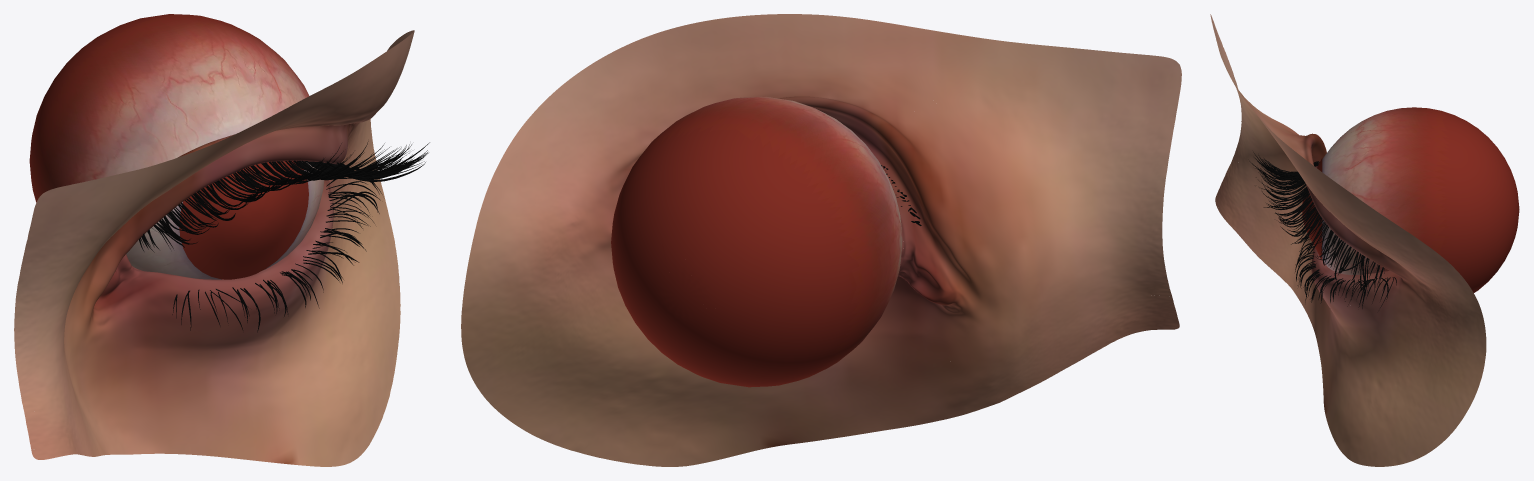
The model's file is 五官_写实眼睛01_opt.glb.
3 renders of one model, left to right at view 1: azimuth 30°, elevation 25°; view 2: azimuth 150°, elevation 25°; view 3: azimuth 270°, elevation 25°, orthographic. The views are drawn at different scales.
Parts seen in each view (by area): view 1: Female_Basemesh_Textured_Head_0, Eye_Brown_02_Eye_Brown_02_0, Eye_Brown_02_Cornea_0, Female_Basemesh_Textured_Head_0_2, Eyelash_Upper_Lash_Material001_0_10, Eyelash_Upper_Lash_Material001_0_8, Eyelash_Upper_Lash_Material001_0_6, Eyelash_Lower_Lash_Material_0_2, Eyelash_Upper_Lash_Material001_0_14, Eyelash_Upper_Lash_Material001_0_16, Eyelash_Lower_Lash_Material_0, Eyelash_Upper_Lash_Material001_0_12 (+3 smaller); view 2: Female_Basemesh_Textured_Head_0, Eye_Brown_02_Eye_Brown_02_0, Female_Basemesh_Textured_Head_0_2; view 3: Female_Basemesh_Textured_Head_0, Eye_Brown_02_Eye_Brown_02_0, Eyelash_Upper_Lash_Material001_0_4, Eyelash_Upper_Lash_Material001_0, Eyelash_Upper_Lash_Material001_0_6, Eyelash_Upper_Lash_Material001_0_8, Eyelash_Upper_Lash_Material001_0_2, Eyelash_Upper_Lash_Material001_0_10, Eye_Brown_02_Cornea_0, Eyelash_Lower_Lash_Material_0, Eyelash_Lower_Lash_Material_0_4, Eyelash_Lower_Lash_Material_0_2 (+1 smaller).
Boxes of the visible parts, bbox=[...] form: Female_Basemesh_Textured_Head_0: bbox=[14, 30, 414, 466]; Eye_Brown_02_Eye_Brown_02_0: bbox=[29, 14, 324, 279]; Eye_Brown_02_Cornea_0: bbox=[179, 161, 308, 279]; Female_Basemesh_Textured_Head_0_2: bbox=[14, 266, 141, 459]; Eyelash_Upper_Lash_Material001_0_10: bbox=[234, 143, 341, 191]; Eyelash_Upper_Lash_Material001_0_8: bbox=[261, 141, 396, 182]; Eyelash_Upper_Lash_Material001_0_6: bbox=[287, 144, 411, 180]; Eyelash_Lower_Lash_Material_0_2: bbox=[295, 191, 380, 289]; Eyelash_Upper_Lash_Material001_0_14: bbox=[179, 184, 250, 227]; Eyelash_Upper_Lash_Material001_0_16: bbox=[148, 203, 215, 249]; Eyelash_Lower_Lash_Material_0: bbox=[326, 168, 382, 228]; Eyelash_Upper_Lash_Material001_0_12: bbox=[206, 173, 278, 206]; Female_Basemesh_Textured_Head_0: bbox=[461, 14, 1181, 466]; Eye_Brown_02_Eye_Brown_02_0: bbox=[611, 96, 902, 387]; Female_Basemesh_Textured_Head_0_2: bbox=[901, 226, 1179, 329]; Female_Basemesh_Textured_Head_0: bbox=[1210, 14, 1486, 466]; Eye_Brown_02_Eye_Brown_02_0: bbox=[1322, 107, 1519, 292]; Eyelash_Upper_Lash_Material001_0_4: bbox=[1275, 205, 1337, 254]; Eyelash_Upper_Lash_Material001_0: bbox=[1335, 244, 1383, 292]; Eyelash_Upper_Lash_Material001_0_6: bbox=[1263, 187, 1315, 231]; Eyelash_Upper_Lash_Material001_0_8: bbox=[1256, 172, 1318, 234]; Eyelash_Upper_Lash_Material001_0_2: bbox=[1307, 222, 1345, 280]; Eyelash_Upper_Lash_Material001_0_10: bbox=[1249, 161, 1314, 188]; Eye_Brown_02_Cornea_0: bbox=[1302, 158, 1322, 260]; Eyelash_Lower_Lash_Material_0: bbox=[1344, 277, 1393, 308]; Eyelash_Lower_Lash_Material_0_4: bbox=[1295, 247, 1320, 302]; Eyelash_Lower_Lash_Material_0_2: bbox=[1308, 273, 1365, 303].
Bounding box in the file's own units: 0.3858 × 0.3 × 0.2737.
4 materials, 3 textured.
